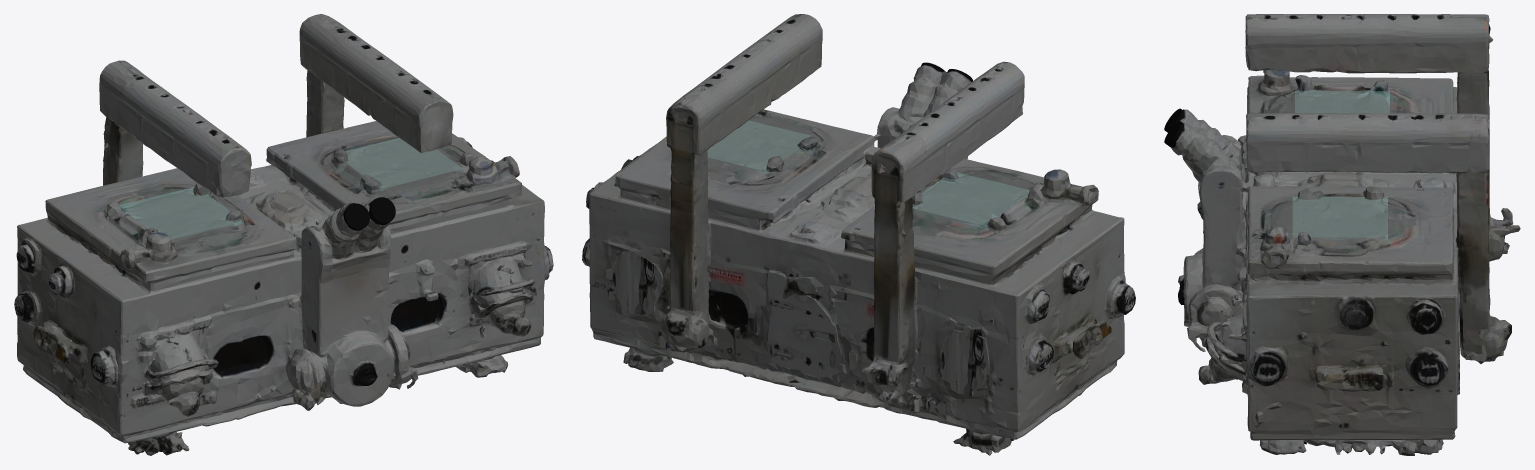
3 renders of one model, left to right at view 1: azimuth 30°, elevation 25°; view 2: azimuth 150°, elevation 25°; view 3: azimuth 270°, elevation 25°, orthographic.
Visible parts, largest first — view 1: textured_mesh.obj, Cube.001, Cube, Cylinder, Cylinder.001; view 2: textured_mesh.obj, Cube.001, Cube; view 3: textured_mesh.obj, Cube, Cube.001.
Boxes of the visible parts, x1,y1,x2,y2 form: textured_mesh.obj: (14, 14, 553, 455); Cube.001: (120, 187, 243, 239); Cube: (345, 138, 462, 190); Cylinder: (369, 197, 395, 225); Cylinder.001: (344, 203, 369, 230); textured_mesh.obj: (582, 14, 1135, 455); Cube.001: (912, 172, 1029, 228); Cube: (708, 120, 810, 173); textured_mesh.obj: (1171, 14, 1520, 455); Cube: (1293, 197, 1387, 239); Cube.001: (1295, 90, 1389, 112).
Size of the model in its own units: 1.99 by 1.23 by 1.31.
4 materials, 1 textured.
